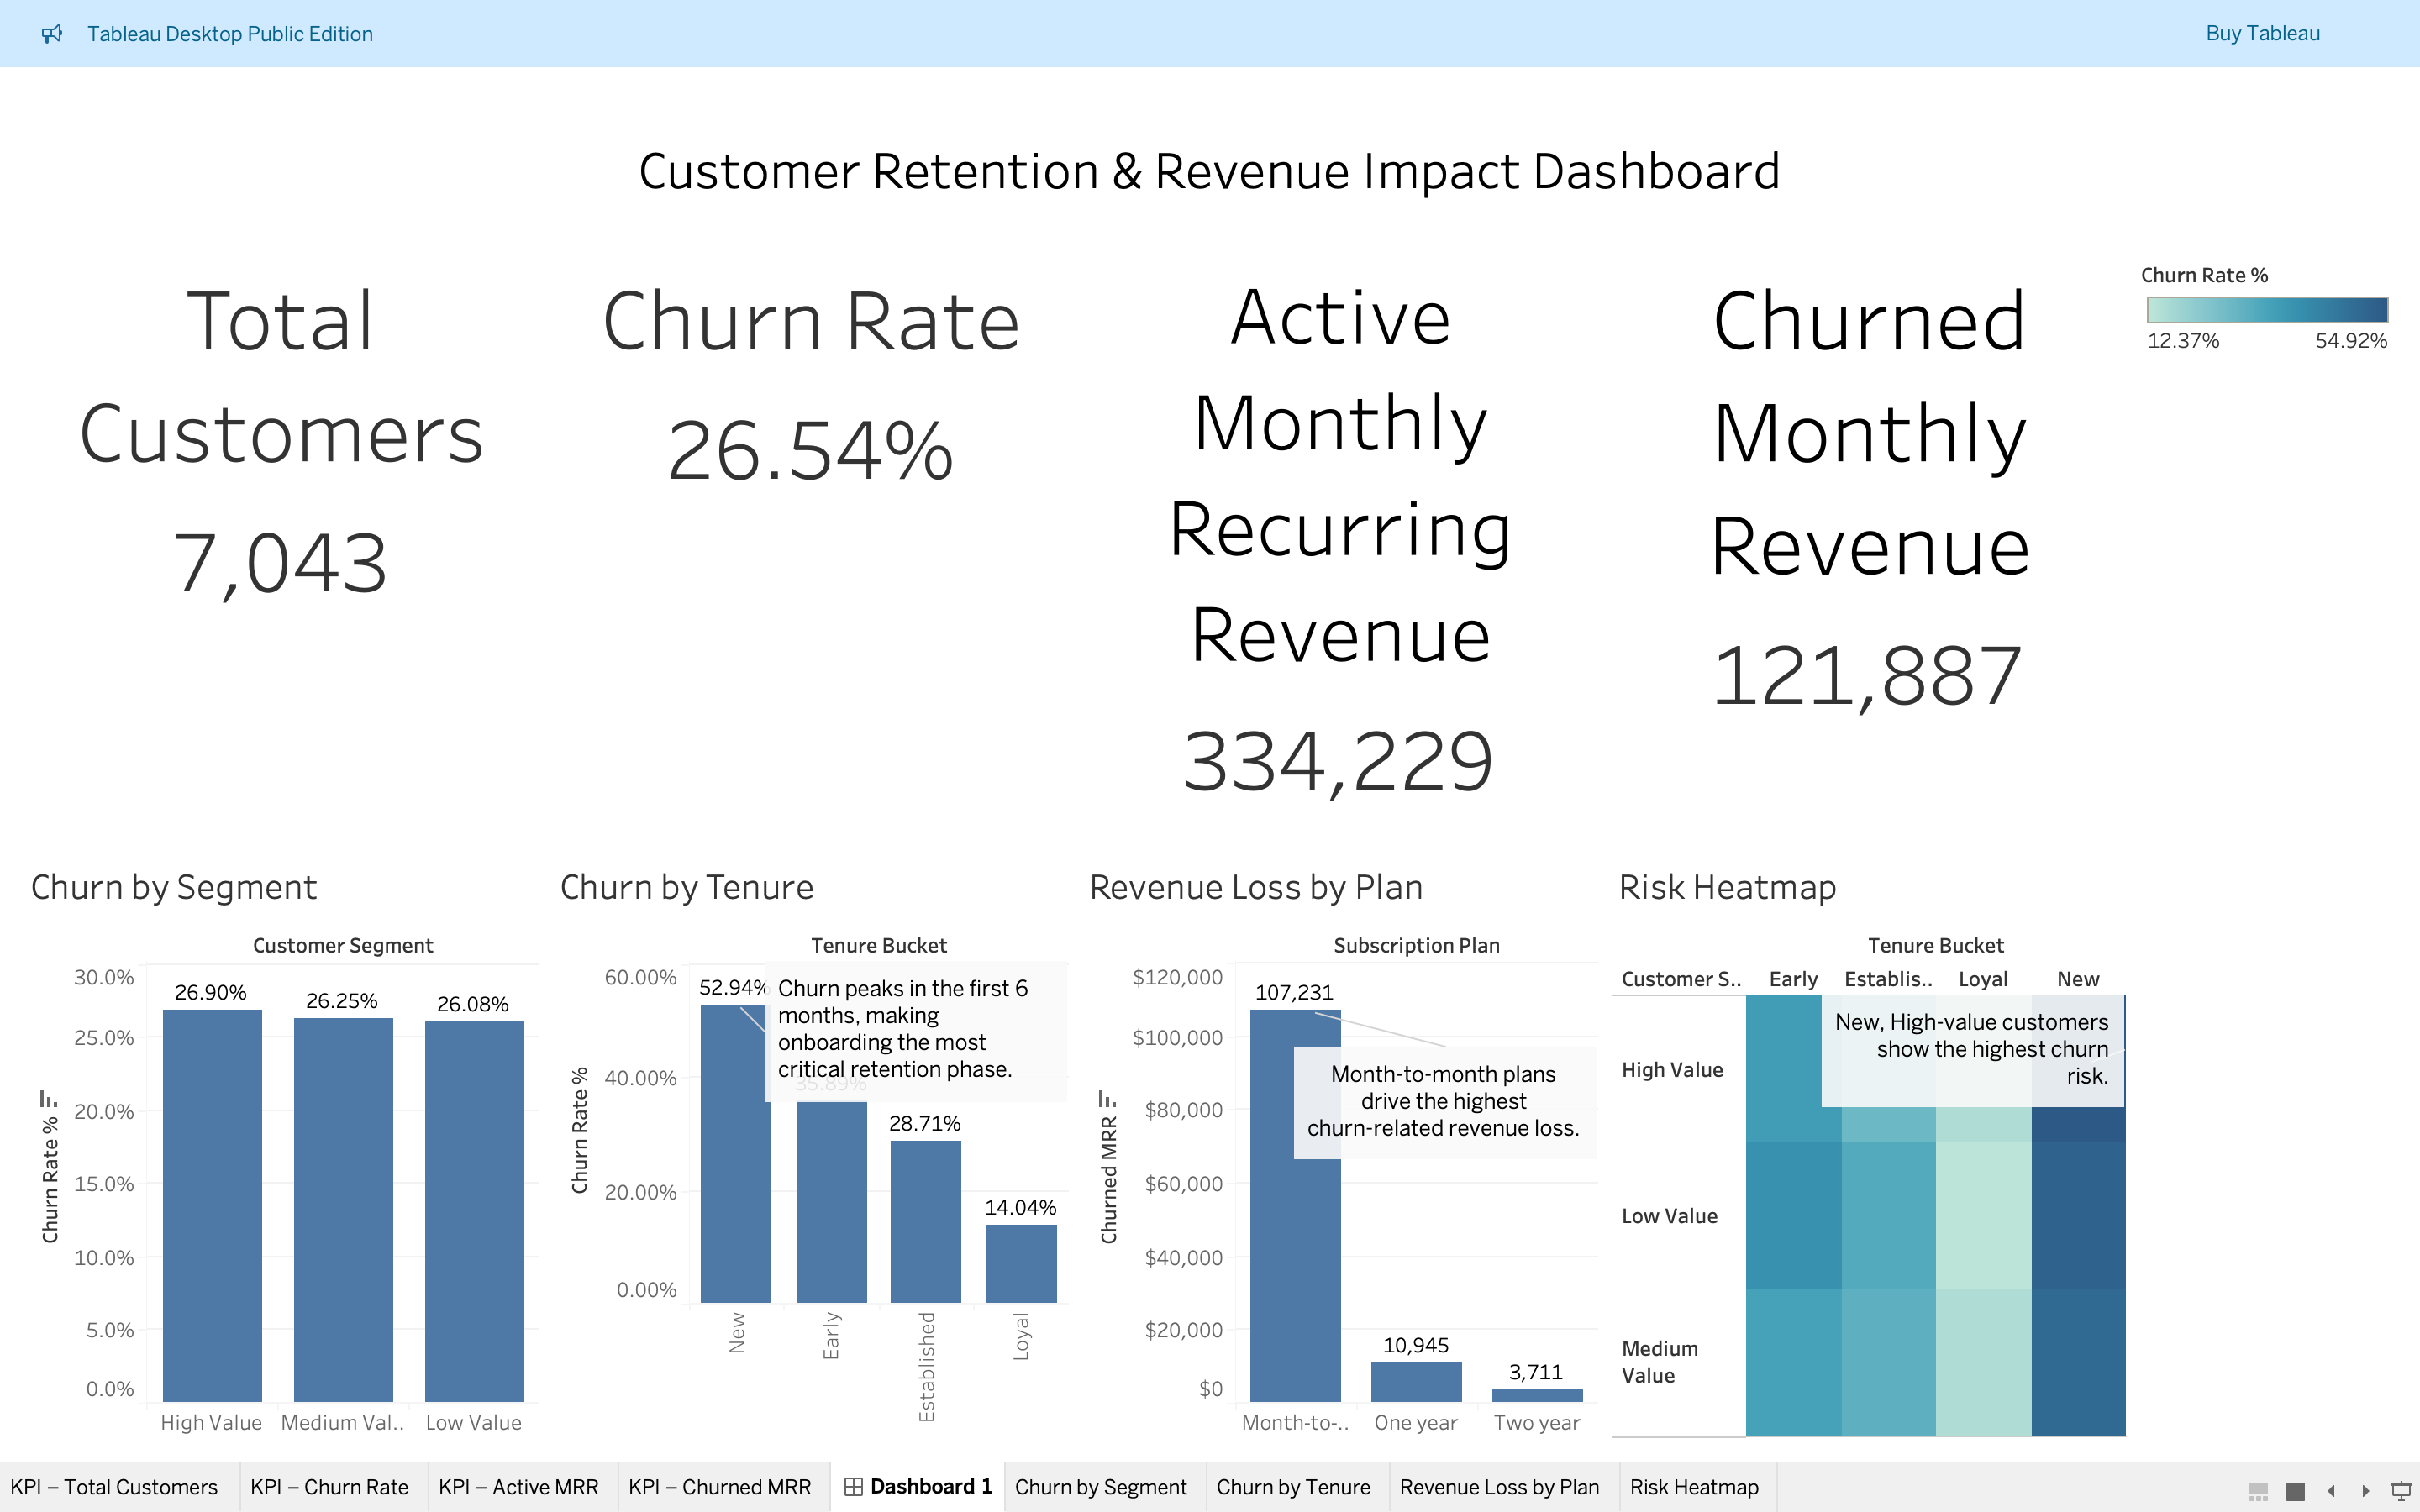

The page's visual inventory and layout, read from the dashboard file:
{"tool":"tableau","page":{"name":"Dashboard 1","canvas":[1000,1000],"units":"permille","ordinal":0},"visuals":[{"type":"text","box":[8.1,13,983.7,121.1]},{"type":"worksheet","title":"KPI – Total Customers","mark":"Automatic","box":[8.1,134.1,213.3,426.4]},{"type":"worksheet","title":"KPI – Churn Rate","mark":"Automatic","box":[221.5,134.1,213.4,426.4]},{"type":"worksheet","title":"KPI – Active MRR","mark":"Automatic","box":[434.9,134.1,213.4,426.4]},{"type":"worksheet","title":"KPI – Churned MRR","mark":"Automatic","box":[648.2,134.1,213.4,426.4]},{"type":"legend","title":"Risk Heatmap","param":"[federated.1r39fzc0sdfoq315up9dn1oxucyi].[usr:Calculation_1713830790194769920:qk","box":[861.7,134.1,130.2,84.6]},{"type":"worksheet","title":"Churn by Segment","mark":"Automatic","rows":["Calculation_1713830790194769920"],"cols":["customer_segment"],"box":[8.1,560.5,213.3,426.5]},{"type":"worksheet","title":"Churn by Tenure","mark":"Automatic","rows":["Calculation_1713830790194769920"],"cols":["tenure_bucket"],"box":[221.5,560.5,213.4,426.5]},{"type":"worksheet","title":"Revenue Loss by Plan","mark":"Automatic","rows":["Calculation_1713830790195113986"],"cols":["subscription_plan"],"box":[434.9,560.5,213.4,426.5]},{"type":"worksheet","title":"Risk Heatmap","mark":"Automatic","rows":["customer_segment"],"cols":["tenure_bucket"],"box":[648.2,560.5,213.4,426.5]}]}

Visuals, with their boxes on the dashboard's canvas, which has no fixed pixel size, in thousandths of its width and height (x1, y1, x2, y2). These are canvas units, not pixel positions in the 2420x1512 screenshot, which may show the page scaled, cropped or inside an application window:
text: Rect(8, 13, 992, 134)
"KPI – Total Customers" worksheet: Rect(8, 134, 221, 560)
"KPI – Churn Rate" worksheet: Rect(222, 134, 435, 560)
"KPI – Active MRR" worksheet: Rect(435, 134, 648, 560)
"KPI – Churned MRR" worksheet: Rect(648, 134, 862, 560)
"Risk Heatmap" legend: Rect(862, 134, 992, 219)
"Churn by Segment" worksheet: Rect(8, 560, 221, 987)
"Churn by Tenure" worksheet: Rect(222, 560, 435, 987)
"Revenue Loss by Plan" worksheet: Rect(435, 560, 648, 987)
"Risk Heatmap" worksheet: Rect(648, 560, 862, 987)
